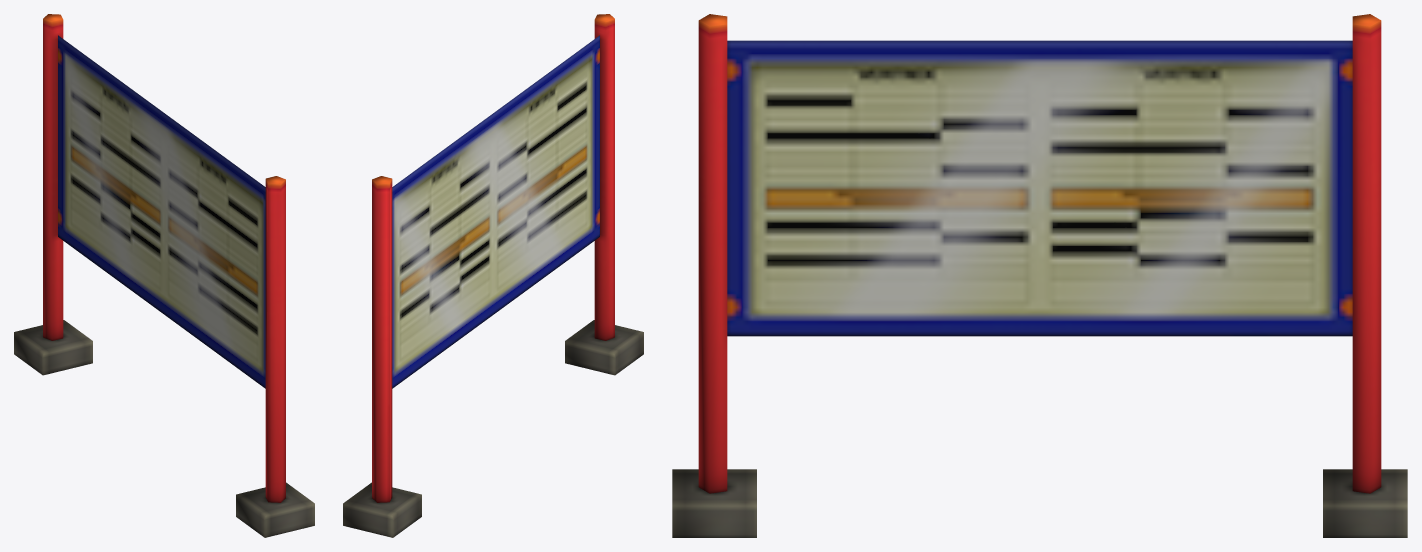
The model's file is HourSign_Paper.FBX.
3 views of the same model, side by side, from view 1: azimuth 30°, elevation 25°; view 2: azimuth 150°, elevation 25°; view 3: azimuth 270°, elevation 25° (orthographic). The views are drawn at different scales.
Visible parts, largest first — view 1: Plane01; view 2: Plane01; view 3: Plane01.
Boxes of the visible parts, left/top/right/bottom form: Plane01: left=14, top=14, right=314, bottom=537; Plane01: left=343, top=14, right=643, bottom=537; Plane01: left=672, top=14, right=1407, bottom=537.
Bounding box in the file's own units: 23.4 × 153 × 203.
1 material, 1 textured.
